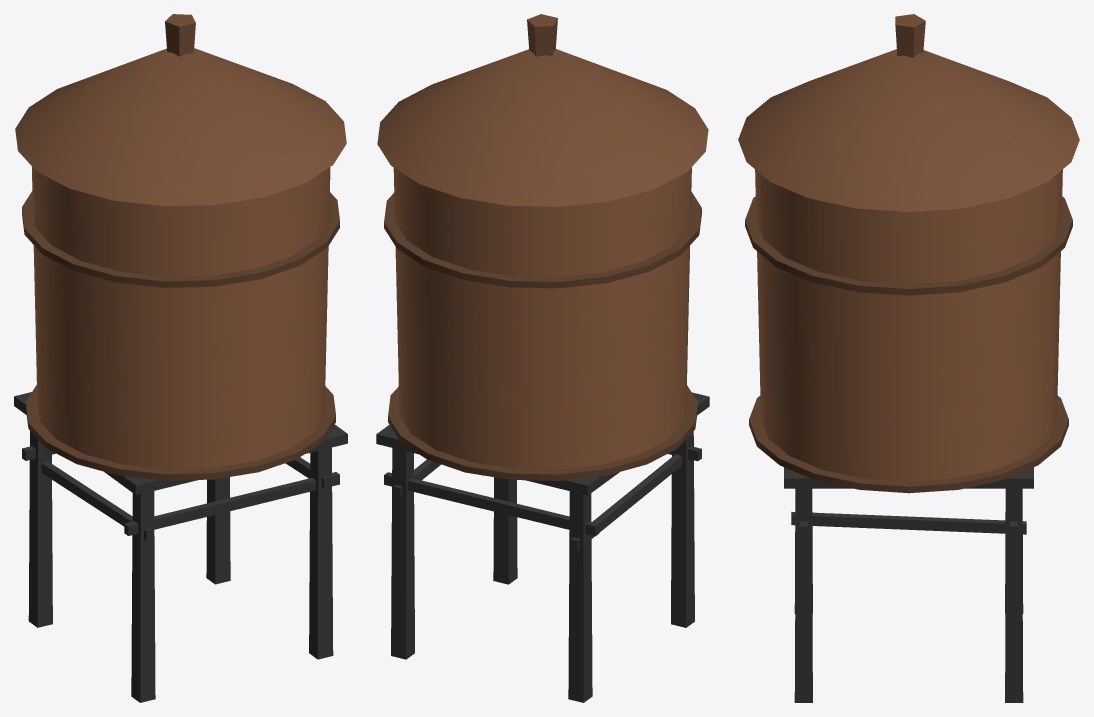
The model's file is Water_tank.fbx.
3 renders of one model, left to right at view 1: azimuth 30°, elevation 25°; view 2: azimuth 150°, elevation 25°; view 3: azimuth 270°, elevation 25°, orthographic. The views are drawn at different scales.
Visible parts, largest first — view 1: Water_Tank_1A; view 2: Water_Tank_1A; view 3: Water_Tank_1A.
Part boxes in pixels (bbox=[...]): Water_Tank_1A: bbox=[14, 14, 347, 702]; Water_Tank_1A: bbox=[376, 14, 709, 702]; Water_Tank_1A: bbox=[738, 14, 1079, 702].
Size of the model in its own units: 6071 by 12427 by 6071.
